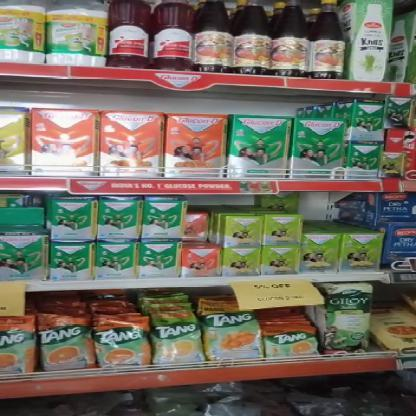Glucon D Regular 1-KG: (230, 112, 290, 176), (291, 115, 344, 177)
Glucon D Tangy orange 1-KG: (24, 105, 92, 175), (94, 108, 162, 176), (158, 112, 222, 176)
